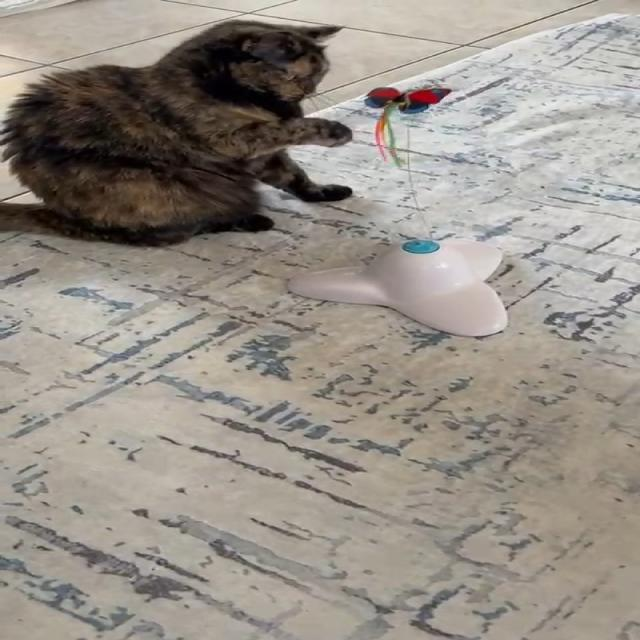authorized: (0, 18, 353, 247)
